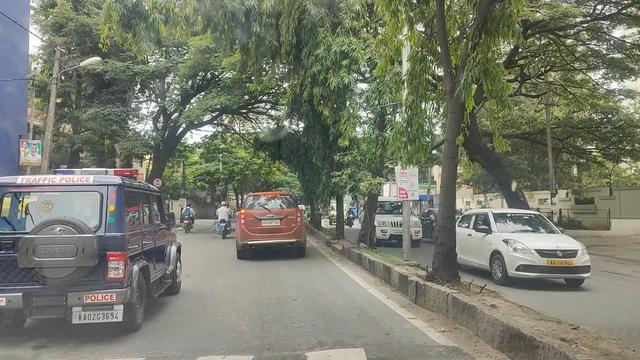LMV: (2, 168, 183, 328), (241, 191, 301, 254)
